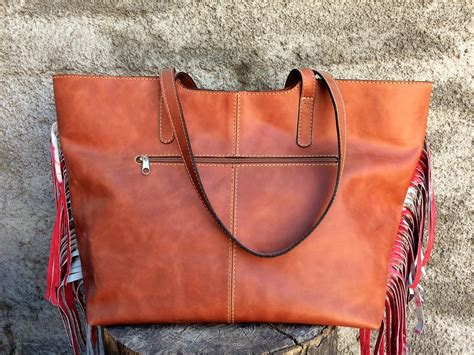cuero: (51, 71, 433, 329)
